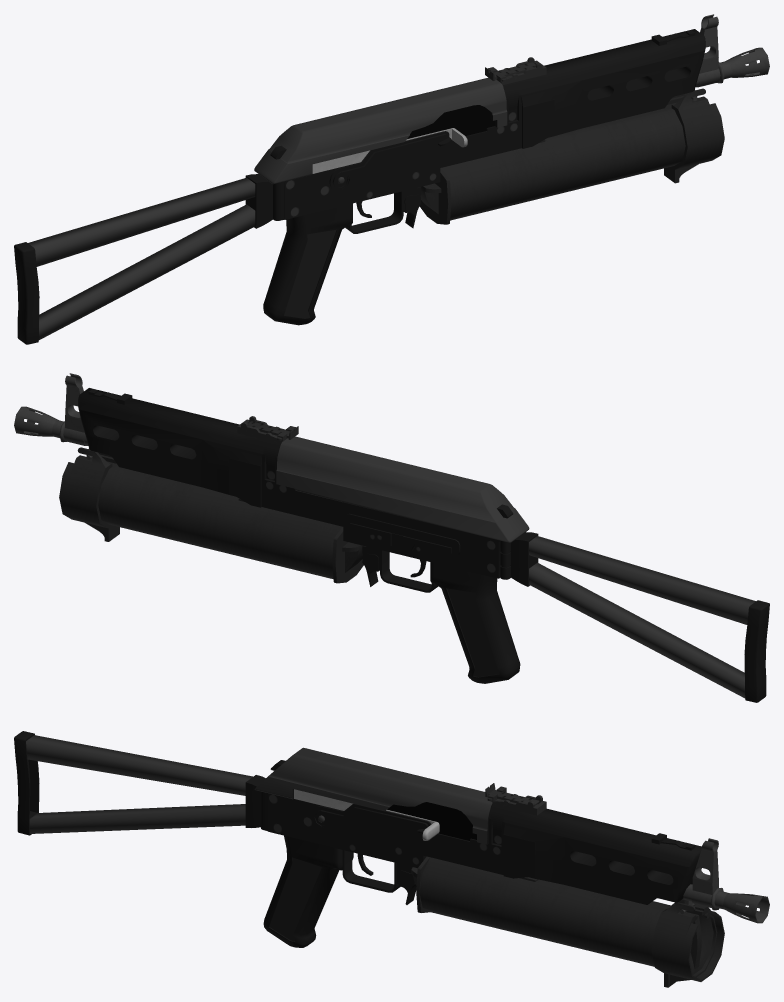
The model's file is bizon.fbx.
3 views of the same model, one above another, from view 1: azimuth 30°, elevation 25°; view 2: azimuth 150°, elevation 25°; view 3: azimuth 330°, elevation 25° (orthographic).
Visible parts, largest first — view 1: stock, mag, bolt; view 2: stock, mag; view 3: stock, mag, bolt, sights.
Part boxes in pixels (left/top/right/bottom): stock: left=14, top=14, right=769, bottom=344; mag: left=419, top=88, right=724, bottom=224; bolt: left=312, top=128, right=467, bottom=173; stock: left=14, top=373, right=769, bottom=702; mag: left=59, top=447, right=363, bottom=583; stock: left=14, top=731, right=769, bottom=947; mag: left=411, top=856, right=724, bottom=987; bolt: left=294, top=789, right=439, bottom=840; sights: left=485, top=783, right=539, bottom=805.
Bounding box in the file's own units: 58.05 × 15.3 × 5.3.
4 materials, 4 textured.
